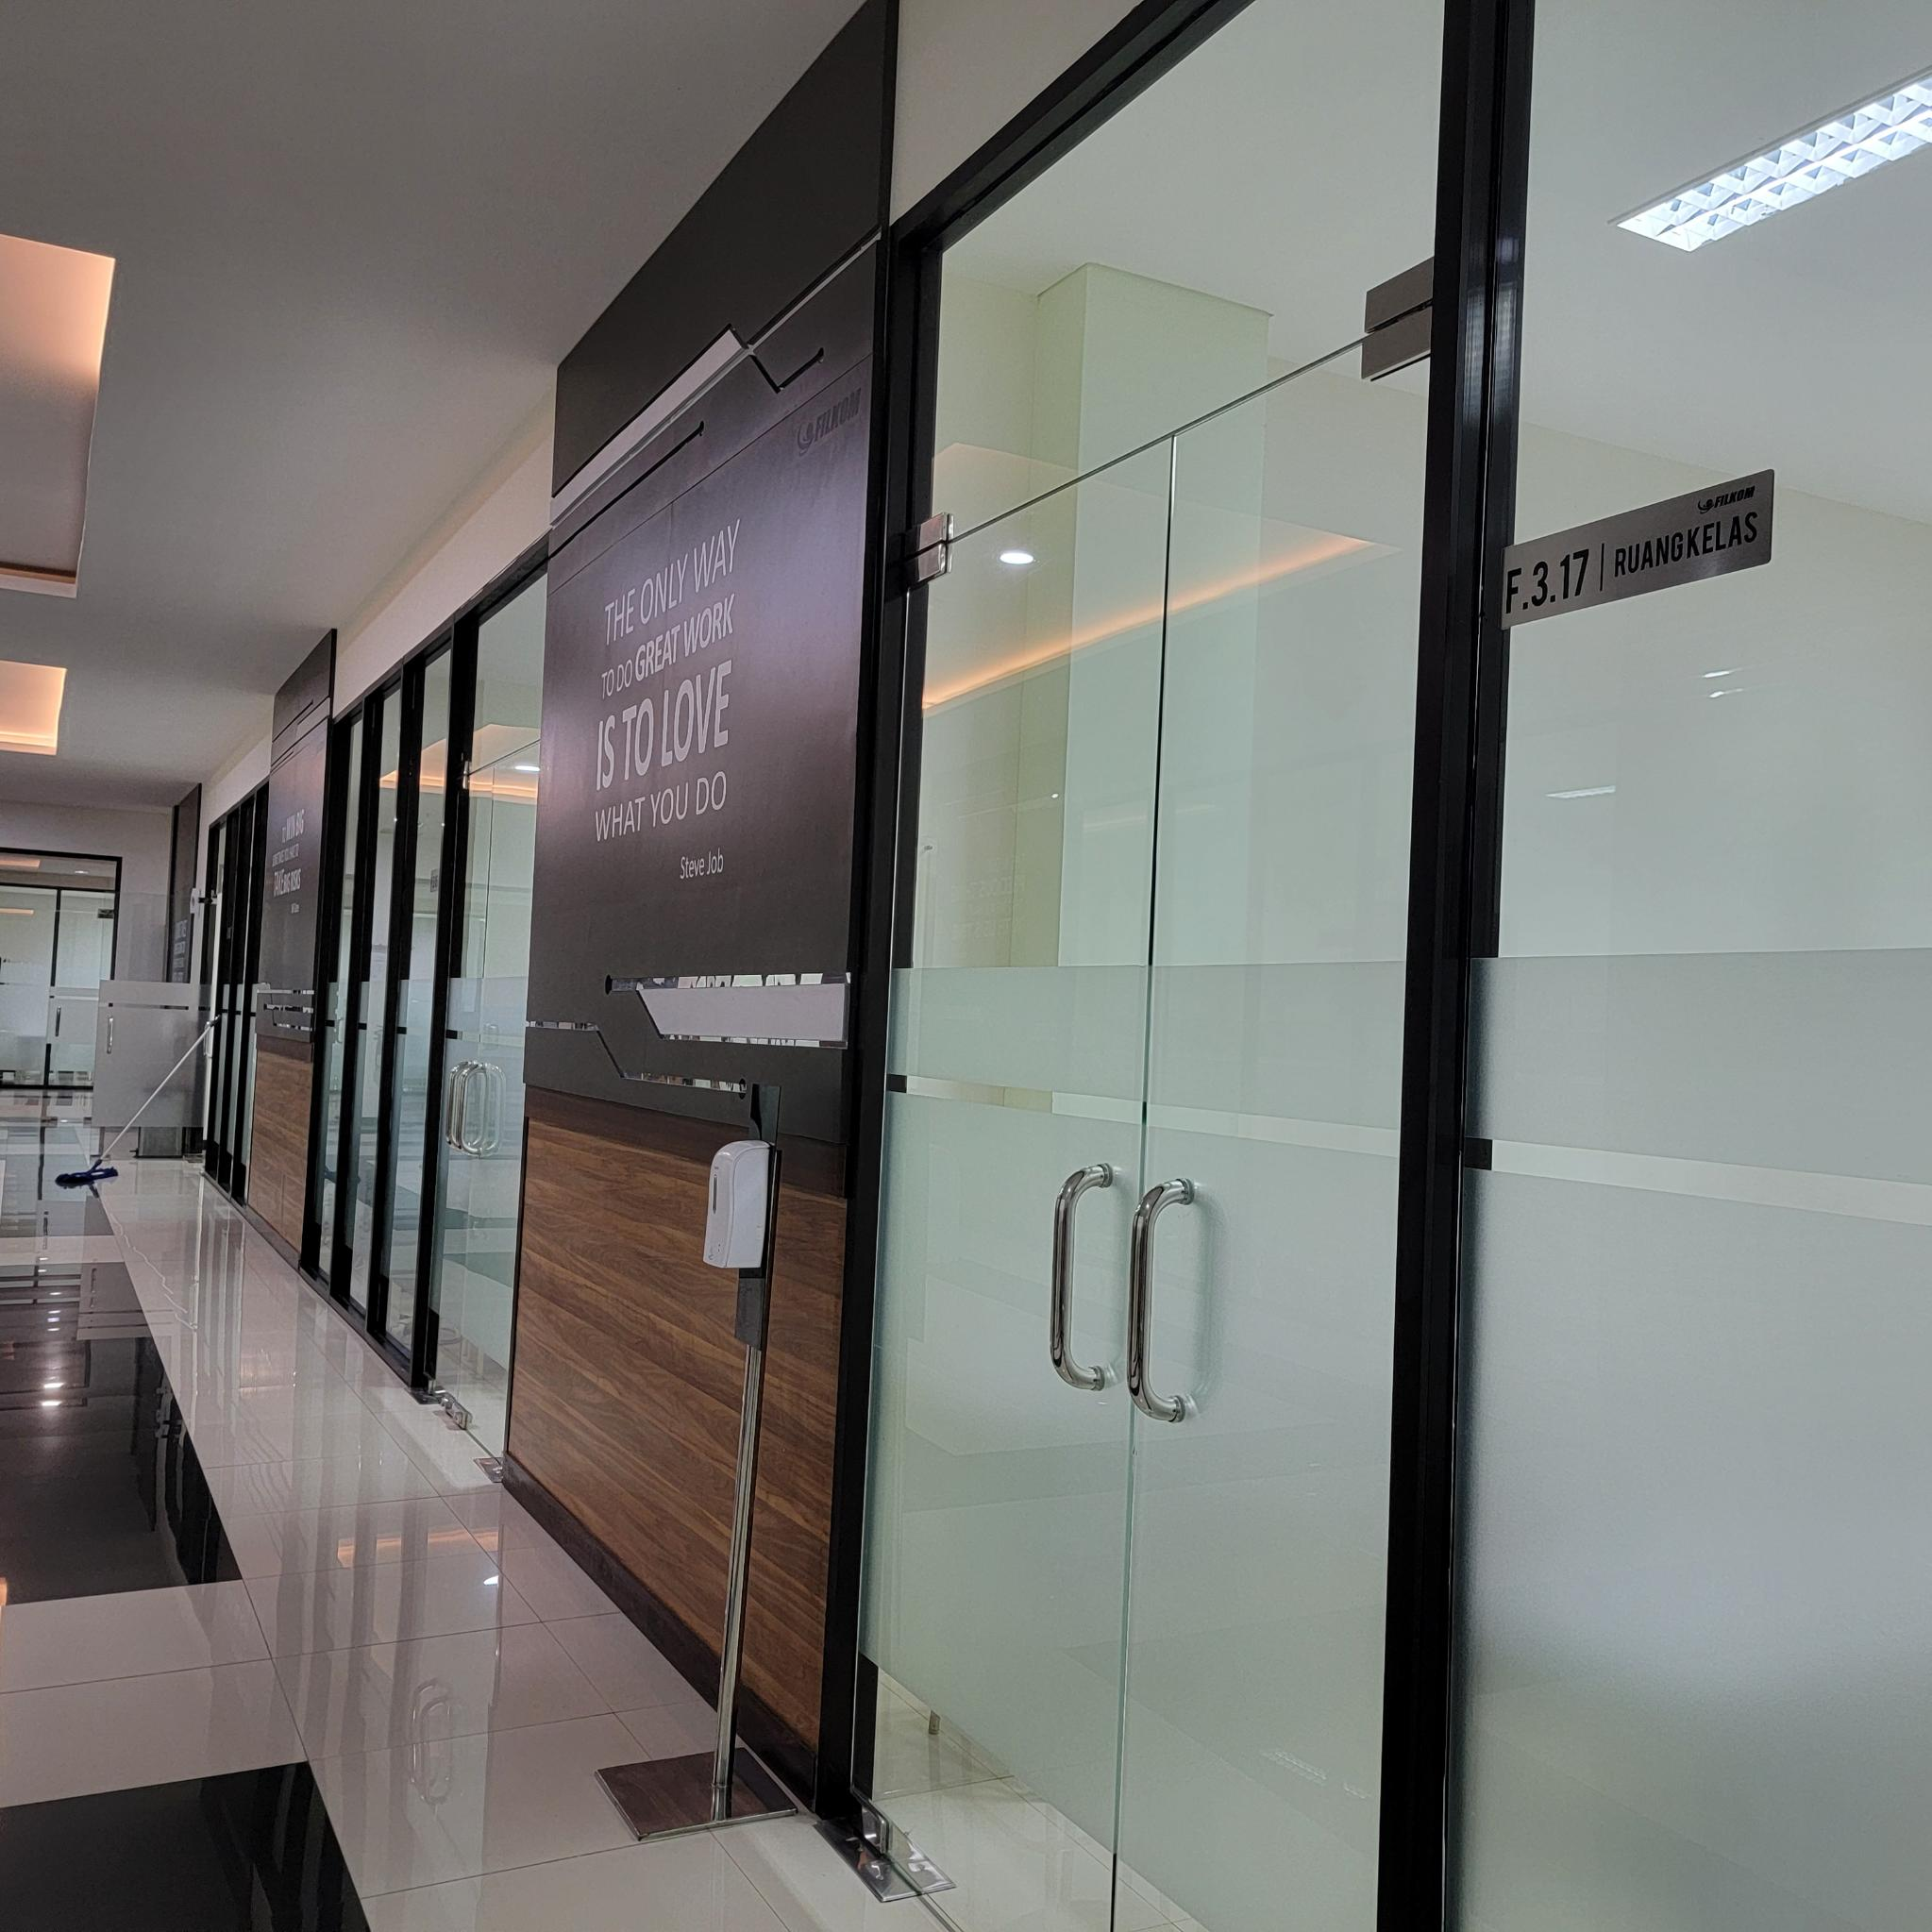plate: (1497, 471, 1776, 632)
